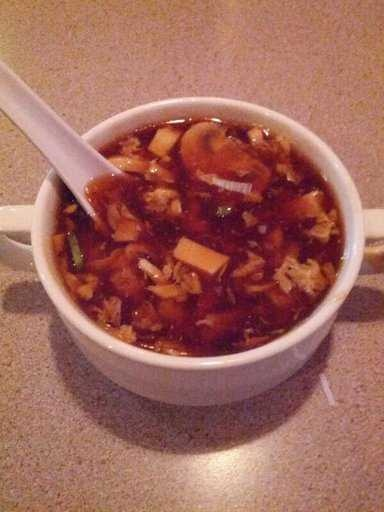soup: (31, 107, 352, 351)
